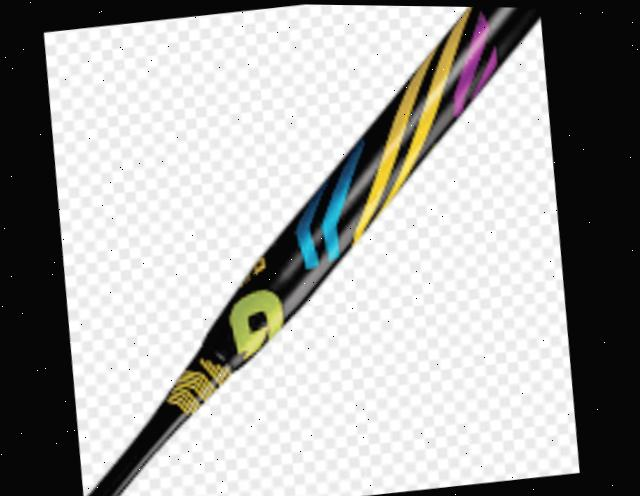baseball bat: (29, 1, 596, 496)
